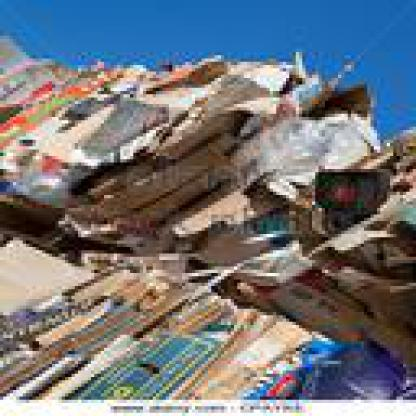CARDBOARD: (98, 82, 364, 214), (0, 263, 192, 396), (214, 182, 413, 306), (257, 218, 413, 374), (0, 58, 159, 182), (62, 292, 250, 396), (240, 100, 380, 202), (110, 120, 238, 231), (240, 328, 413, 396), (175, 309, 315, 393), (163, 58, 309, 136), (0, 231, 94, 341), (113, 140, 230, 214), (186, 201, 292, 263), (0, 182, 78, 263), (172, 179, 283, 231), (0, 26, 59, 118), (156, 52, 318, 81), (72, 166, 121, 234), (318, 172, 390, 212), (289, 178, 325, 244), (387, 124, 413, 186), (348, 143, 386, 169)
